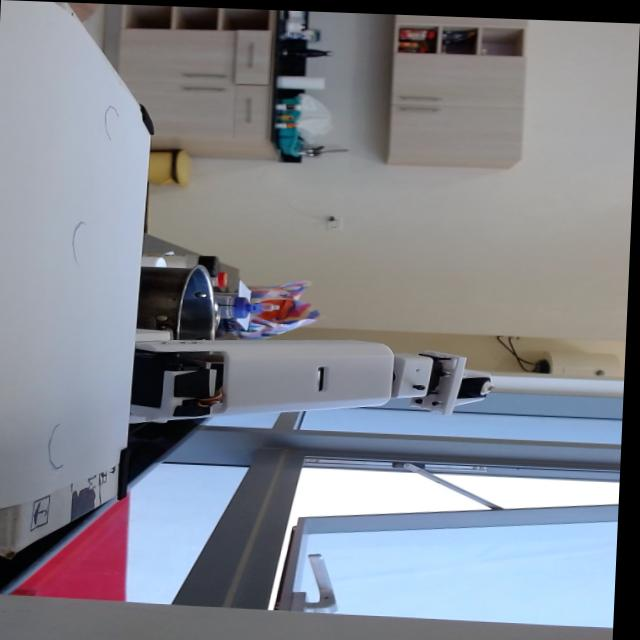cooking_pot: (135, 265, 241, 346)
